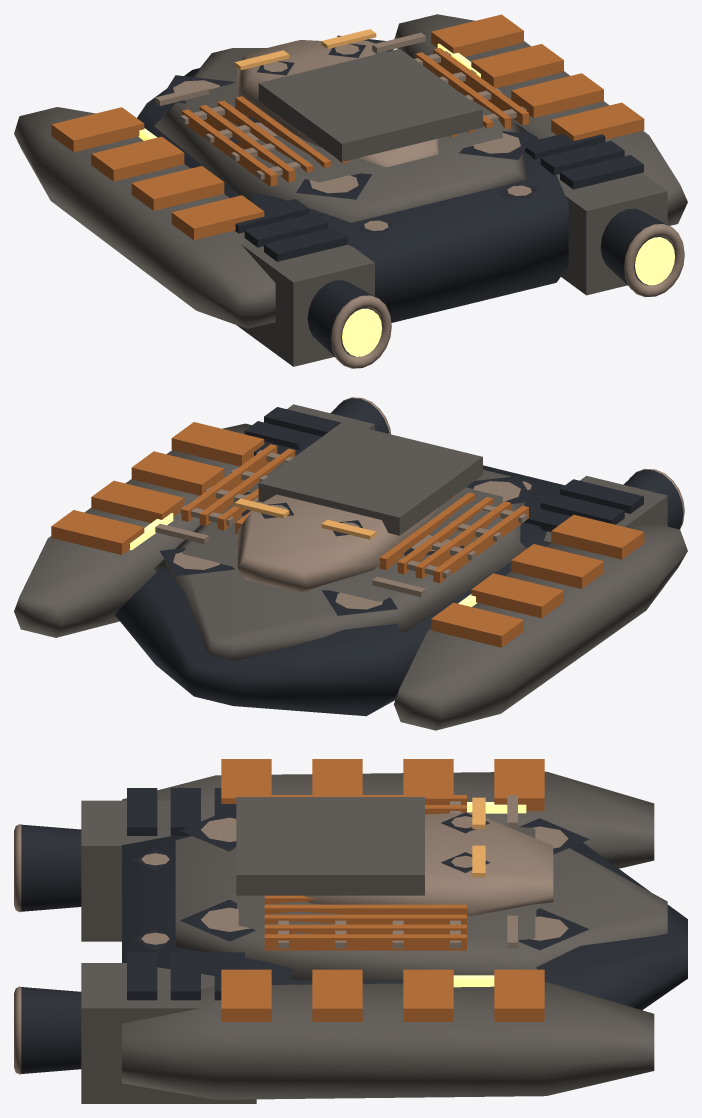
The model's file is compact_high_gravity--patrol_corvette.glb.
The picture shows the model from 3 angles, top to bottom: view 1: azimuth 30°, elevation 25°; view 2: azimuth 150°, elevation 25°; view 3: azimuth 270°, elevation 25°; orthographic projection. The views are drawn at different scales.
Parts seen in each view (by area): view 1: load_bearing_wedge_1, outboard_armor_sponson_47, stepped_main_plate_2, central_citadel_57, armored_drive_block_4, armored_drive_block_25, outboard_armor_sponson_52, reinforced_command_deck_3, replaceable_integral_plate_49, replaceable_integral_plate_50, replaceable_integral_plate_48, replaceable_integral_plate_55 (+27 smaller); view 2: load_bearing_wedge_1, outboard_armor_sponson_47, stepped_main_plate_2, central_citadel_57, outboard_armor_sponson_52, reinforced_command_deck_3, replaceable_integral_plate_51, replaceable_integral_plate_48, replaceable_integral_plate_50, replaceable_integral_plate_49, replaceable_integral_plate_55, replaceable_integral_plate_53 (+23 smaller); view 3: outboard_armor_sponson_52, stepped_main_plate_2, central_citadel_57, load_bearing_wedge_1, outboard_armor_sponson_47, reinforced_command_deck_3, armored_drive_block_25, armored_drive_block_4, engine_shroud_5, engine_shroud_26, deck_load_rib_37, integral_mount_plate_1 (×4) (+20 smaller).
Part boxes in pixels (x1,y1,x2,y2): load_bearing_wedge_1: (137,68,568,322); outboard_armor_sponson_47: (14,107,275,328); stepped_main_plate_2: (154,48,526,222); central_citadel_57: (258,48,482,161); armored_drive_block_4: (236,242,374,366); armored_drive_block_25: (556,172,667,295); outboard_armor_sponson_52: (394,14,687,225); reinforced_command_deck_3: (237,40,438,167); replaceable_integral_plate_49: (91,136,184,181); replaceable_integral_plate_50: (131,166,224,210); replaceable_integral_plate_48: (51,107,144,152); replaceable_integral_plate_55: (511,73,603,118); load_bearing_wedge_1: (114,465,564,716); outboard_armor_sponson_47: (394,522,687,730); stepped_main_plate_2: (154,461,526,660); central_citadel_57: (258,422,482,535); outboard_armor_sponson_52: (14,423,251,637); reinforced_command_deck_3: (237,494,438,593); replaceable_integral_plate_51: (551,514,644,559); replaceable_integral_plate_48: (431,602,523,647); replaceable_integral_plate_50: (511,544,603,588); replaceable_integral_plate_49: (471,573,563,618); replaceable_integral_plate_55: (131,451,224,495); replaceable_integral_plate_53: (51,510,144,554); outboard_armor_sponson_52: (122,982,654,1099); stepped_main_plate_2: (175,825,667,980); central_citadel_57: (236,797,424,895); load_bearing_wedge_1: (122,835,687,1010); outboard_armor_sponson_47: (122,771,654,868); reinforced_command_deck_3: (302,812,553,915); armored_drive_block_25: (81,963,256,1103); armored_drive_block_4: (81,800,204,941); engine_shroud_5: (21,824,81,911); engine_shroud_26: (21,987,81,1073); deck_load_rib_37: (264,934,466,950); integral_mount_plate_1 (×4): (180,809,589,950).
Bounding box in the file's own units: 156 × 49 × 168.
